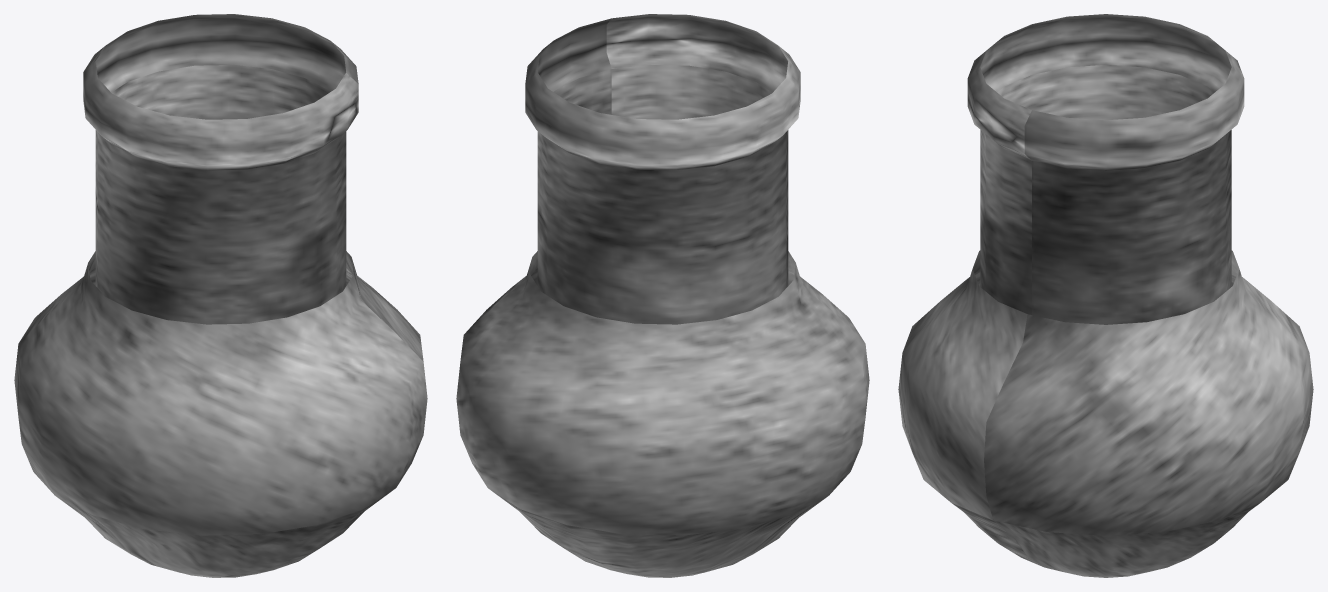
File: MissileLauncher.obj
The picture shows the model from 3 angles, left to right: view 1: azimuth 30°, elevation 25°; view 2: azimuth 150°, elevation 25°; view 3: azimuth 270°, elevation 25°; orthographic projection.
Visible parts, largest first — view 1: Cube; view 2: Cube; view 3: Cube.
Boxes of the visible parts, x1,y1,x2,y2 form: Cube: [14, 14, 427, 577]; Cube: [456, 14, 869, 577]; Cube: [898, 14, 1313, 577].
Bounding box in the file's own units: 6.6 × 8.43 × 6.6.
